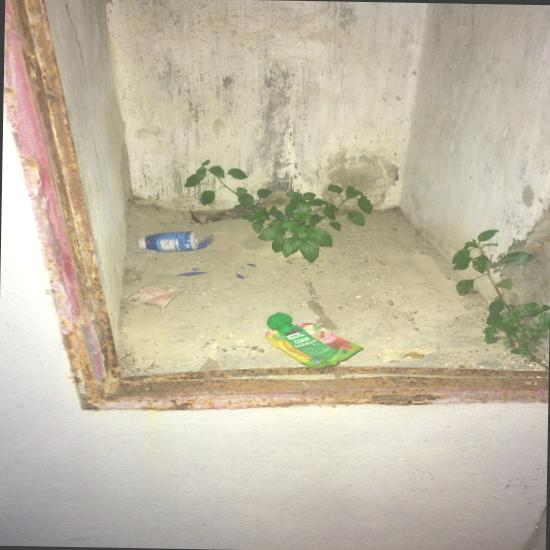Other plastic: (126, 282, 187, 308)
Other plastic bottle: (194, 234, 213, 250), (177, 271, 207, 276), (236, 273, 244, 278), (246, 263, 255, 267), (190, 268, 200, 271)
Other plastic container: (138, 231, 198, 251)
Squeezable tube: (266, 312, 364, 367)
